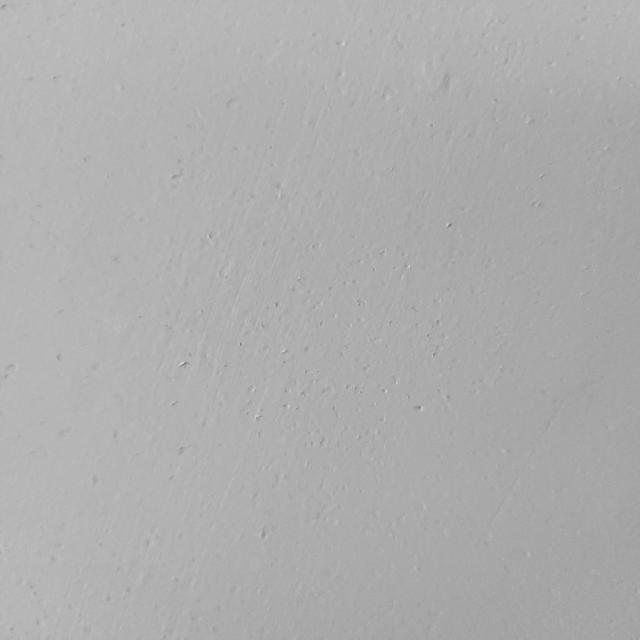rough and patchy surface: (47, 2, 640, 436), (61, 440, 430, 628)
